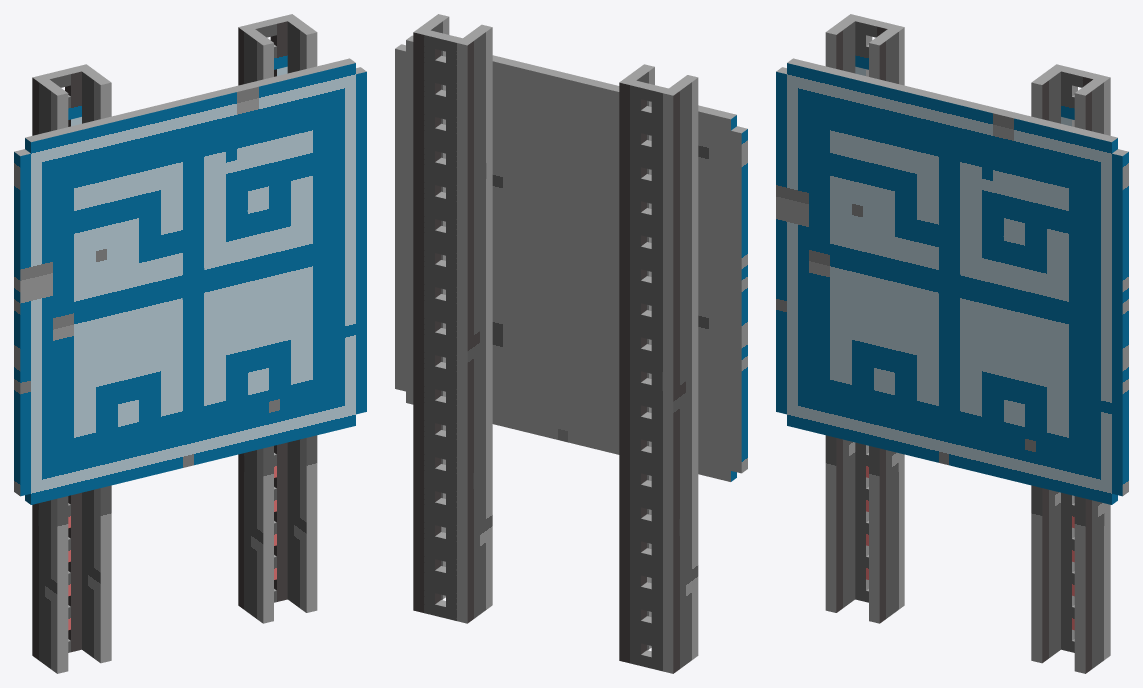
File: nuzu_signao.fezao.glb
3 renders of one model, left to right at view 1: azimuth 30°, elevation 25°; view 2: azimuth 150°, elevation 25°; view 3: azimuth 330°, elevation 25°, orthographic.
Visible parts, largest first — view 1: NUZU_SIGNAO; view 2: NUZU_SIGNAO; view 3: NUZU_SIGNAO.
Part boxes in pixels (box(x1,y1,x2,y2)): NUZU_SIGNAO: box(14, 14, 366, 673); NUZU_SIGNAO: box(395, 14, 747, 673); NUZU_SIGNAO: box(776, 14, 1128, 673).
Size of the model in its own units: 2 by 3.19 by 0.3125.
Materials: 1 (1 with a texture image).
